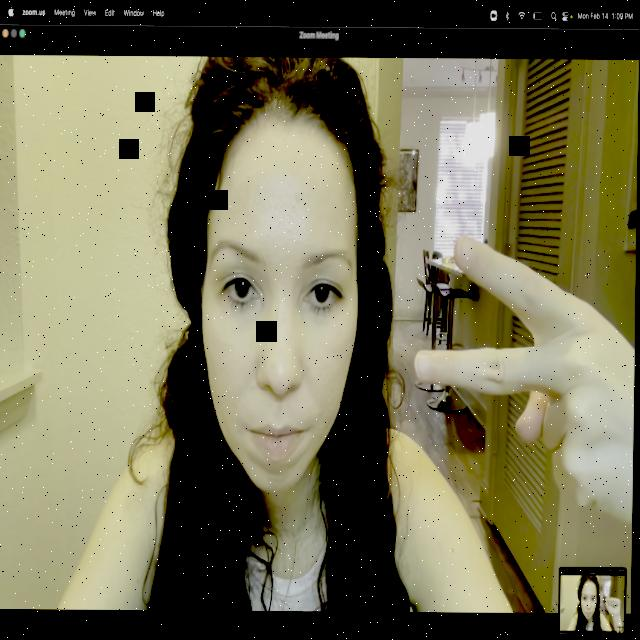Scissors: (409, 201, 637, 526)
